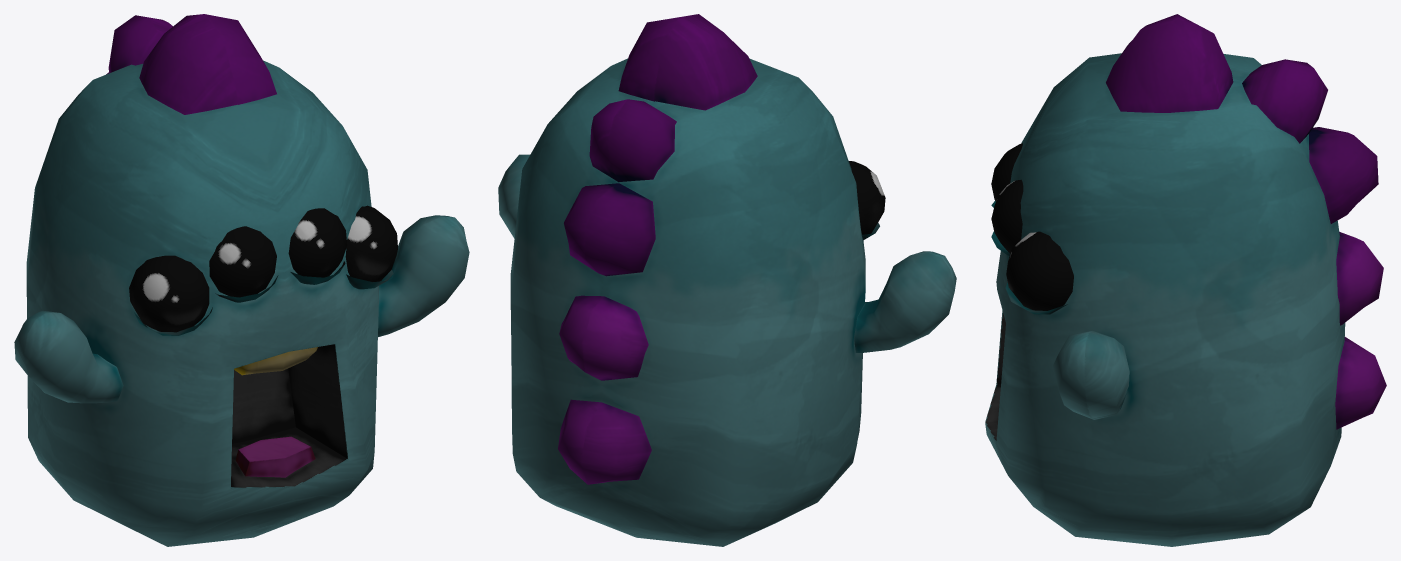
Rendered from alien_tall.glb.
3 renders of one model, left to right at view 1: azimuth 30°, elevation 25°; view 2: azimuth 150°, elevation 25°; view 3: azimuth 270°, elevation 25°, orthographic.
Parts seen in each view (by area): view 1: Alien_Tall_Cube.047; view 2: Alien_Tall_Cube.047; view 3: Alien_Tall_Cube.047.
Boxes of the visible parts, x1=… form: Alien_Tall_Cube.047: x1=14, y1=14, x2=469, y2=546; Alien_Tall_Cube.047: x1=498, y1=14, x2=956, y2=546; Alien_Tall_Cube.047: x1=985, y1=14, x2=1386, y2=546.
Bounding box in the file's own units: 2.03 × 2.16 × 1.57.
1 material, 1 textured.
